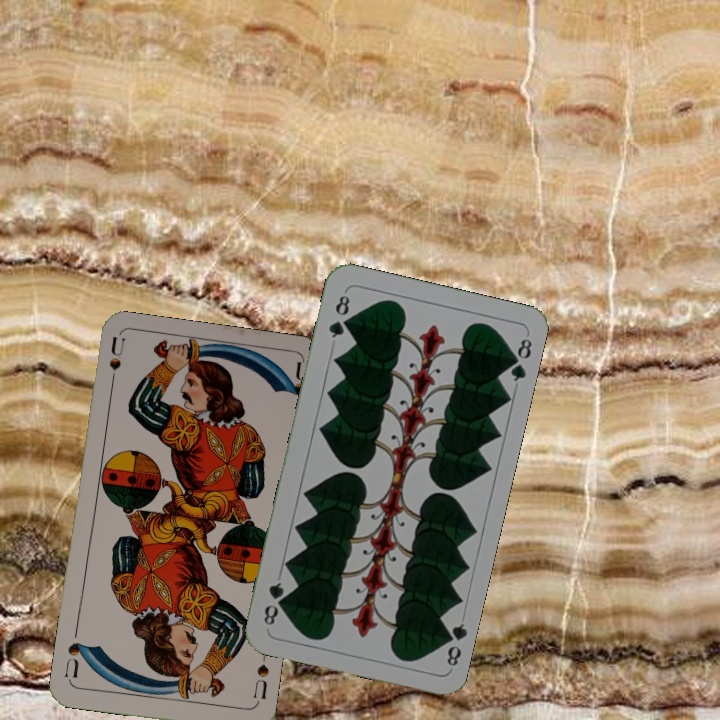G8: (438, 619, 469, 669), (324, 291, 353, 341)
SU: (105, 335, 128, 394), (249, 648, 271, 707)
